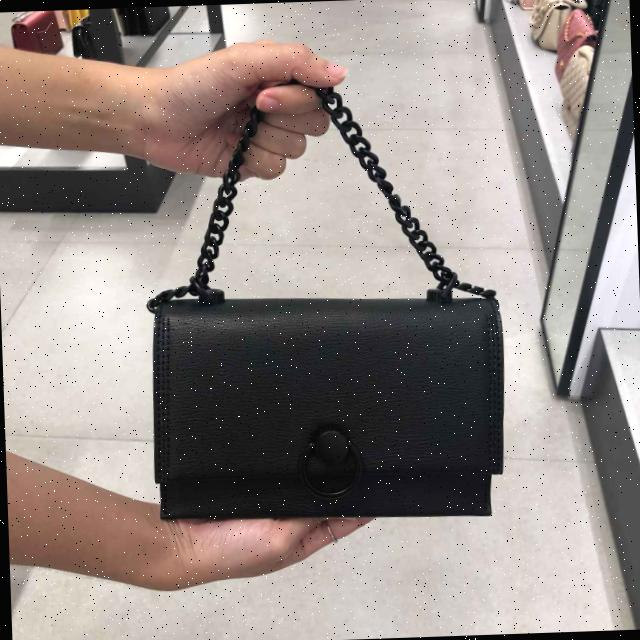handbag: (152, 294, 502, 517)
